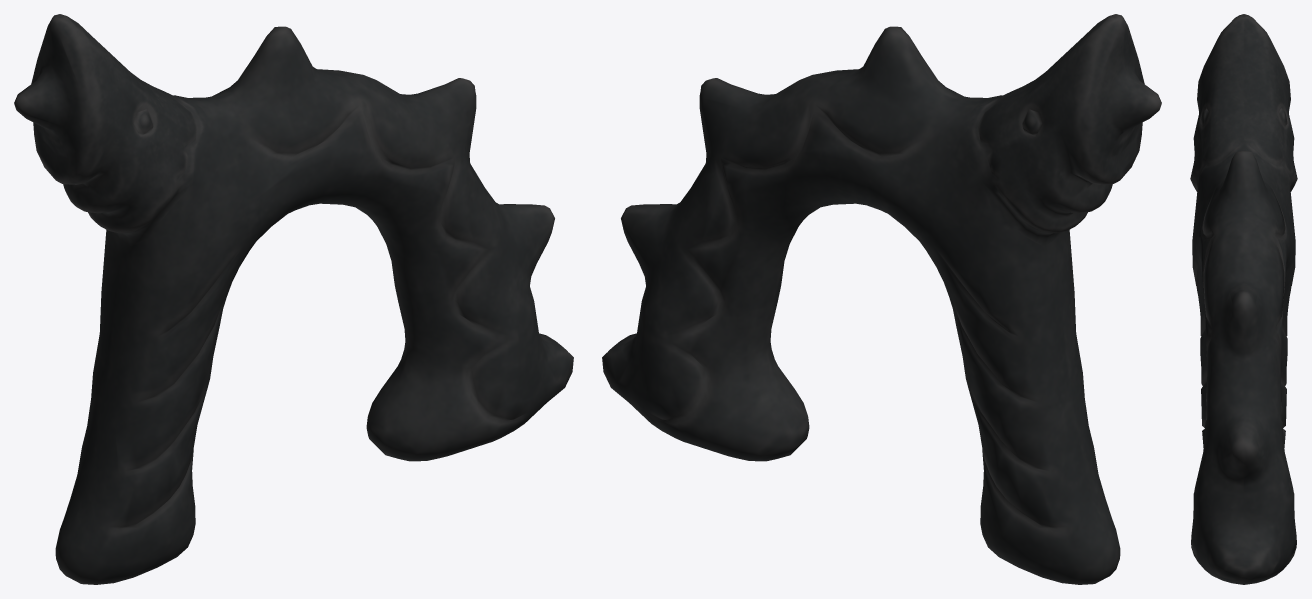
The model's file is SM_RoofOrnament02D.fbx.
3 views of the same model, side by side, from view 1: azimuth 30°, elevation 25°; view 2: azimuth 150°, elevation 25°; view 3: azimuth 270°, elevation 25° (orthographic). The views are drawn at different scales.
Visible parts, largest first — view 1: SM_RoofOrnament02D; view 2: SM_RoofOrnament02D; view 3: SM_RoofOrnament02D.
Boxes of the visible parts, <box> form: SM_RoofOrnament02D: <box>14,14,573,584</box>; SM_RoofOrnament02D: <box>602,14,1161,584</box>; SM_RoofOrnament02D: <box>1190,14,1297,584</box>.
Bounding box in the file's own units: 37.91 × 8.17 × 37.38.
